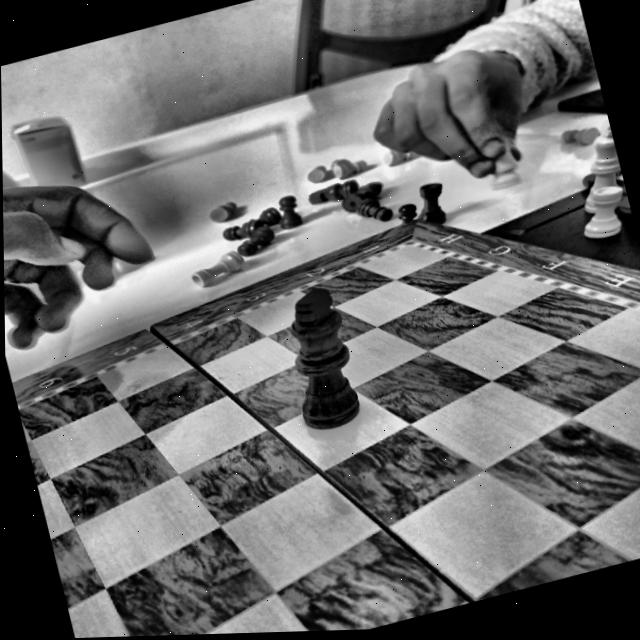black-king: (270, 278, 373, 441)
